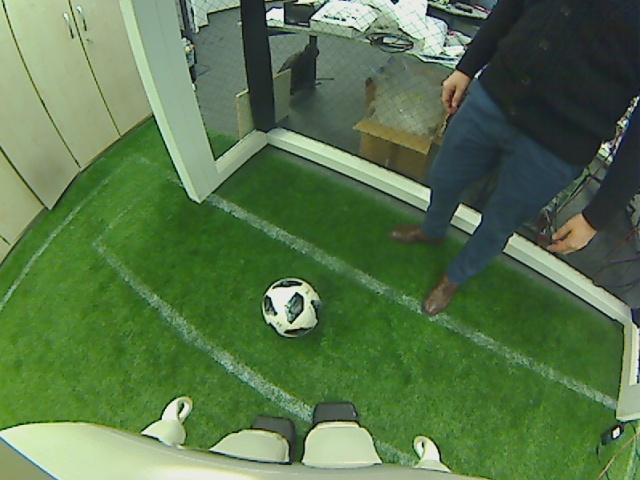ball: (260, 275, 322, 337)
